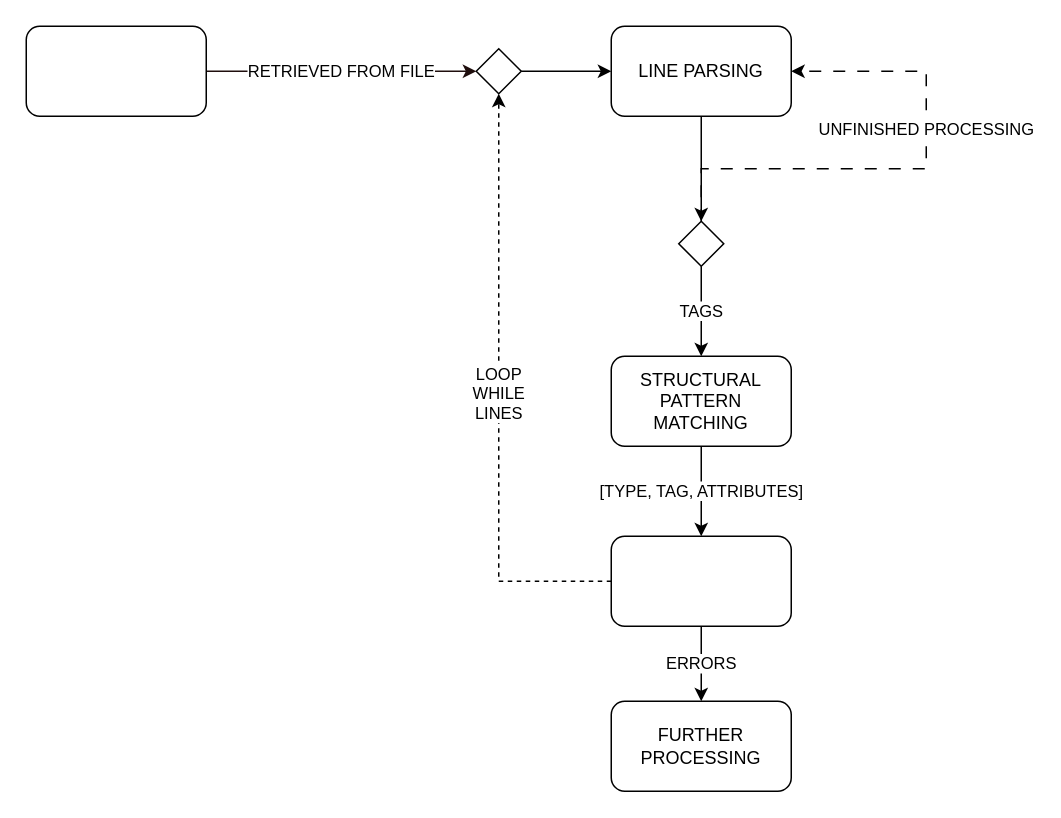
This 1061x818 diagram has some shape labels left out. The centre of each missing label's shape, as x and y in pixels:
"HTML CODE" goes at (x=115, y=70).
"STACK CHECKER AND ERROR HANDLER" goes at (x=700, y=580).
